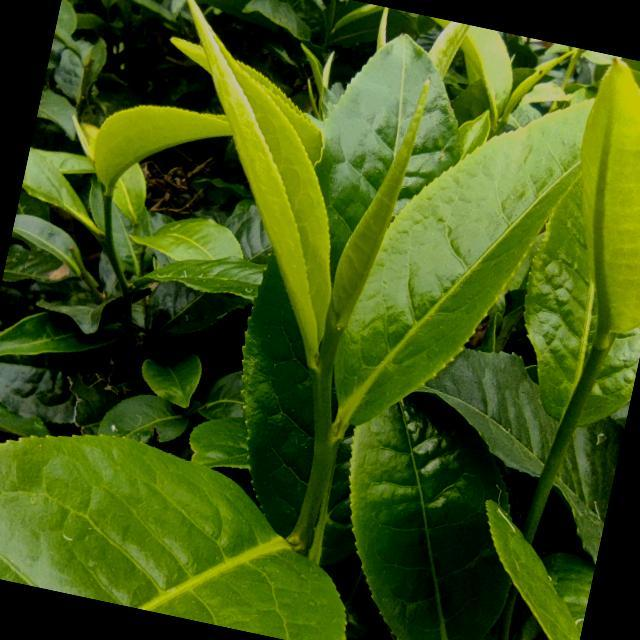Stem: (313, 369, 332, 397)
